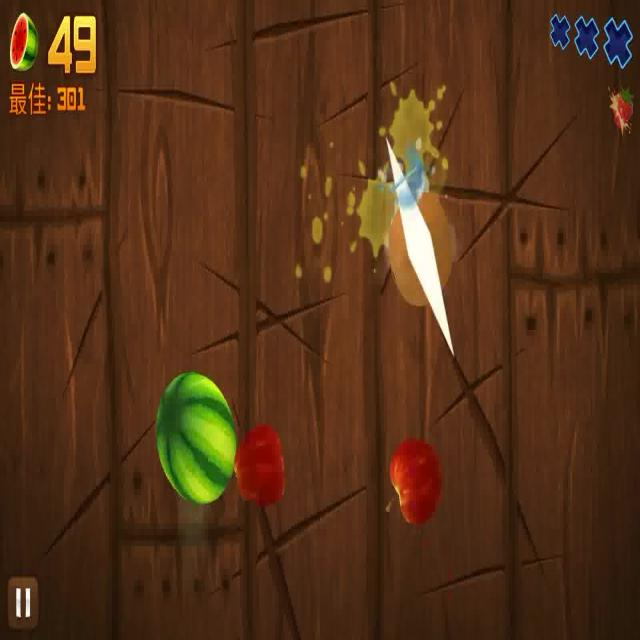fruit: (157, 368, 235, 506), (388, 196, 457, 306), (388, 436, 442, 528), (234, 422, 287, 507)
